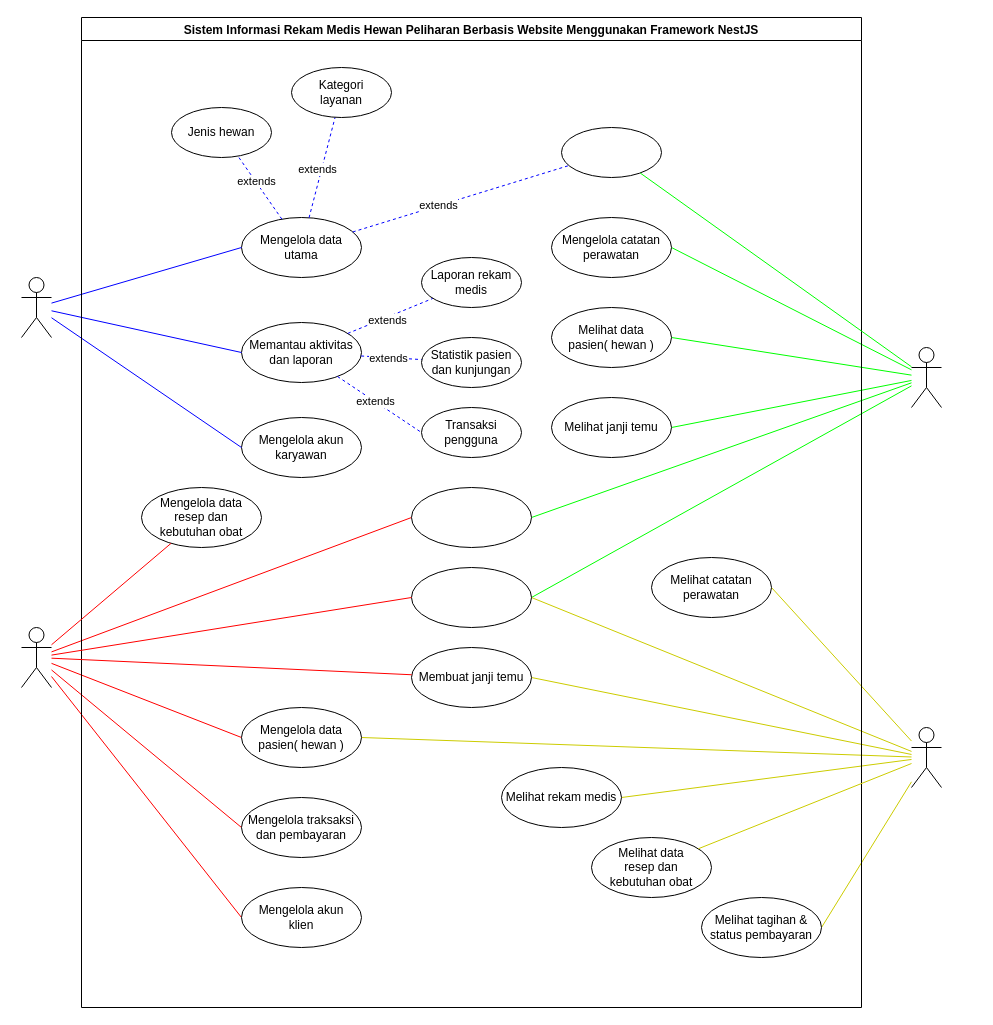
Some shapes in this 993 by 1025 pixel diagram are drawn without their labels. The centre of each missing label's shape, as x and y in pixels:
"ADMIN" goes at (x=36, y=307).
"Daftar obat" goes at (x=611, y=152).
"DOKTER HEWAN" goes at (x=926, y=377).
"KLIEN" goes at (x=926, y=757).
"Mengelola akun pribadi" goes at (x=471, y=597).
"Mengelola rekam medis" goes at (x=471, y=517).
"STAFF" goes at (x=36, y=657).
